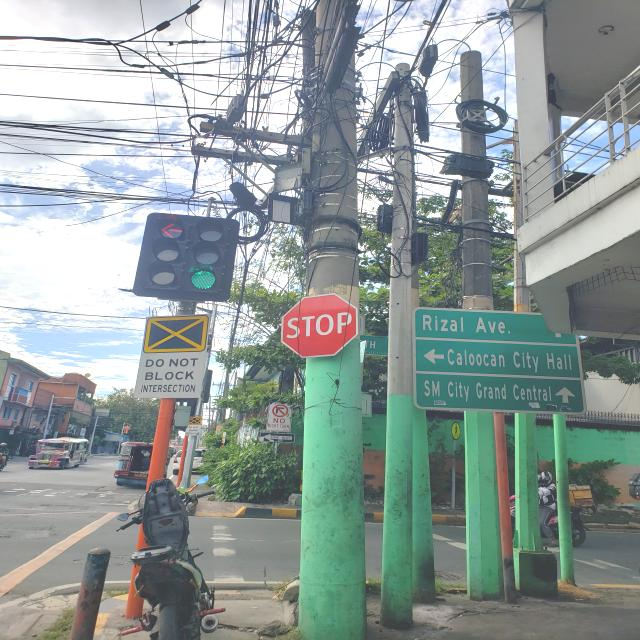stop-sign: (280, 292, 358, 358)
